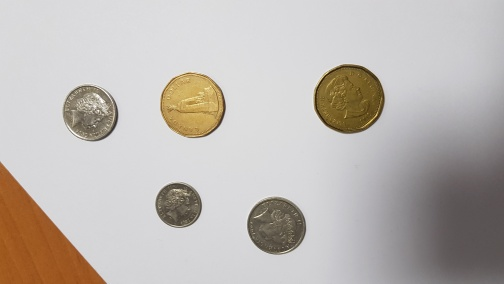coin: (314, 64, 385, 134), (160, 72, 226, 138), (247, 196, 307, 255), (62, 84, 118, 142), (155, 181, 203, 228)
